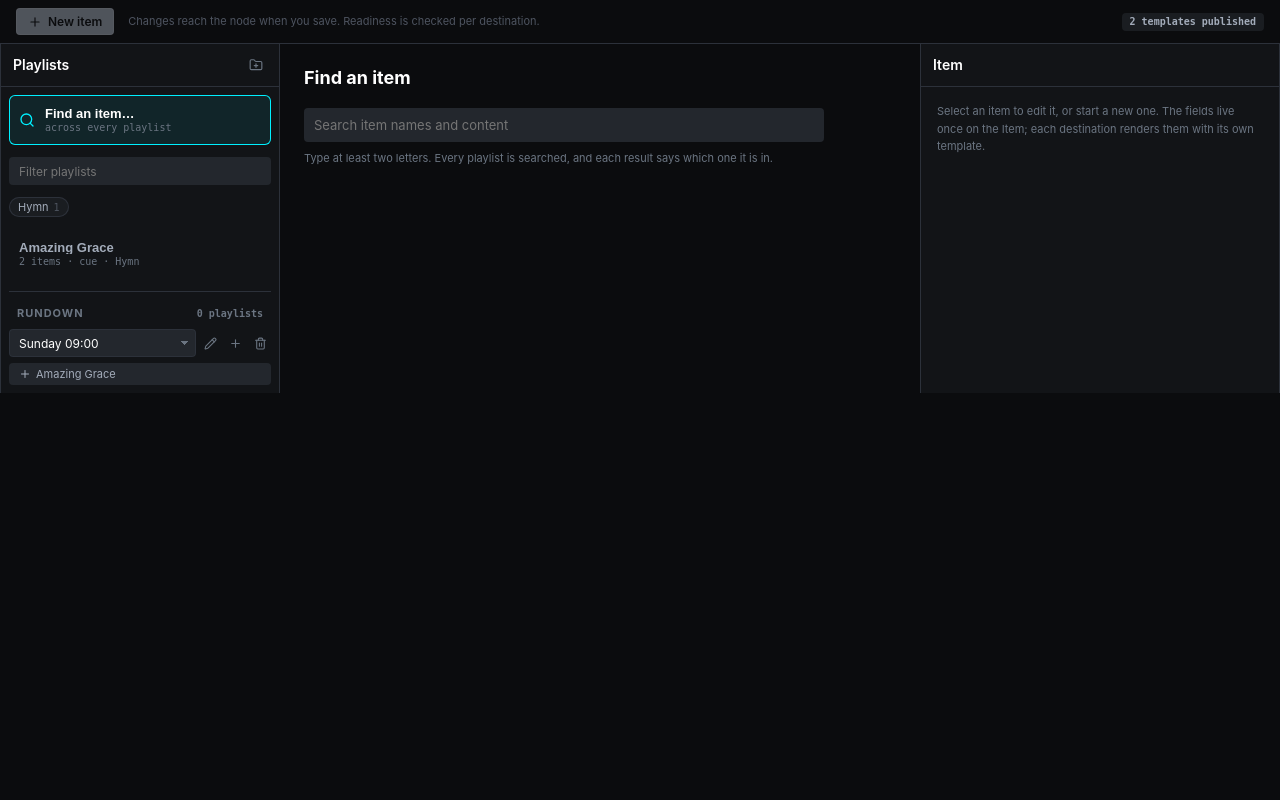
it: a destination stacks its controls in one column, one per line
What coordinates should you click on to do the following:
click the text "Amazing Grace"
I would click on:
 (66, 248)
Its box is [19,240,114,255].
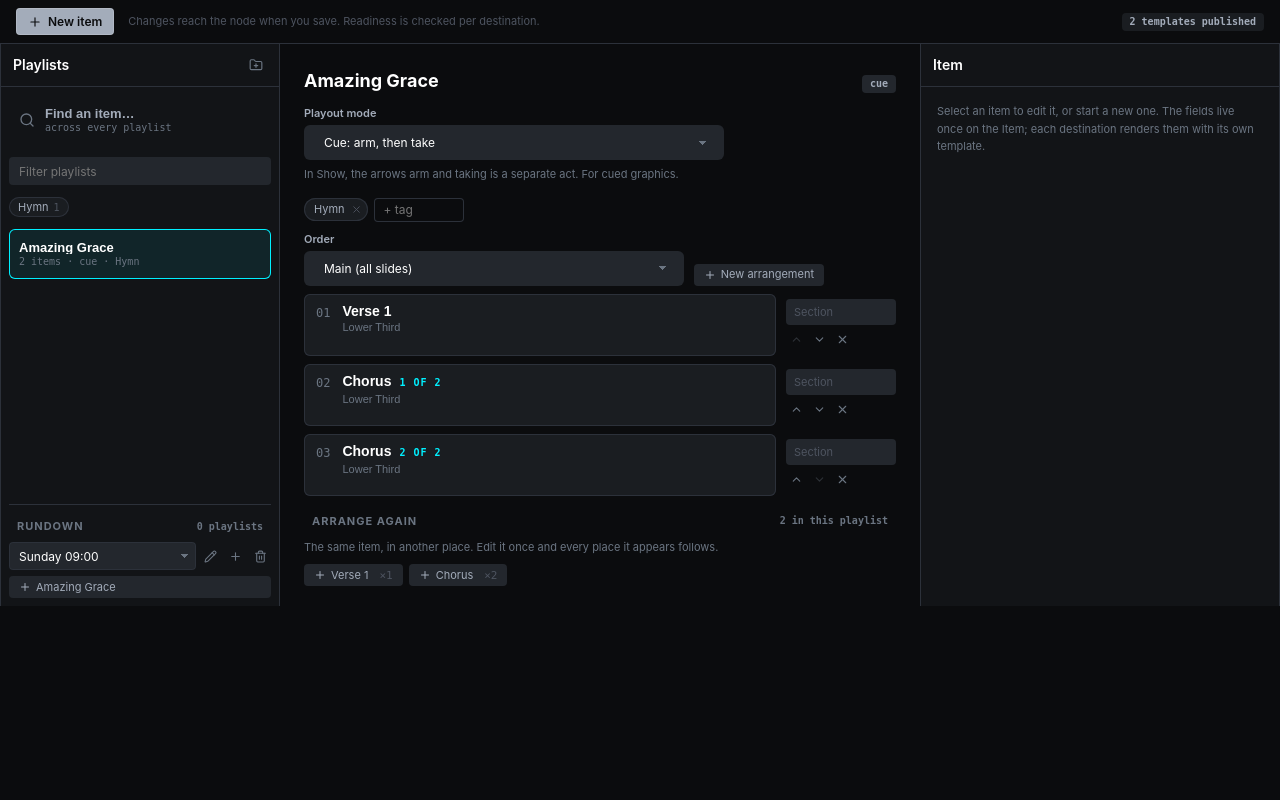
Check: the field named "Playlist name" is shown, box [296,64,850,96]
What coordinates should you click on to do the following:
click the button "New item"
I would click on:
 (65, 22)
Its box is [16,8,114,35].
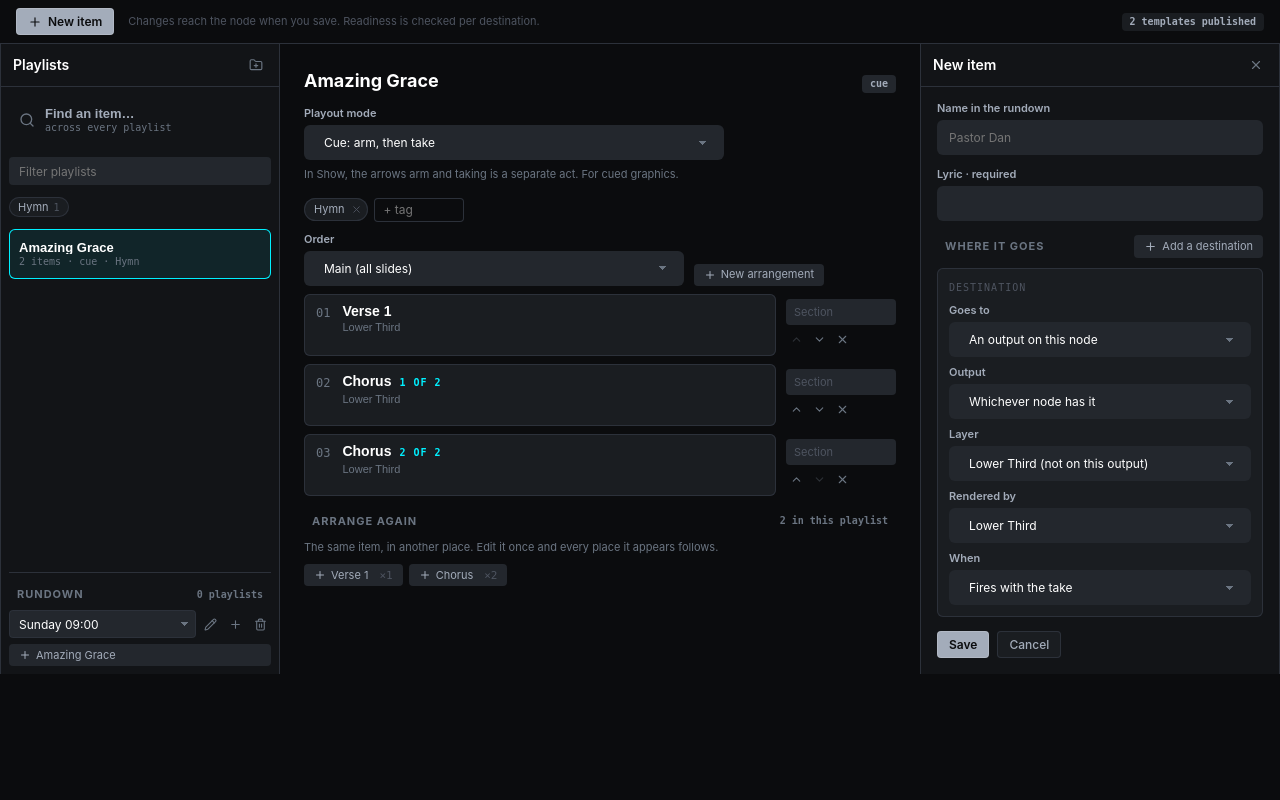
Check: the text "Where it goes" is shown, box [945,241,1044,252]
Check: the number of elements with class "edit-console__dest-row" is 1, box [949,305,1251,605]
Check: the element with class "edit-console__dest-head" is shown, box [949,282,1026,293]
